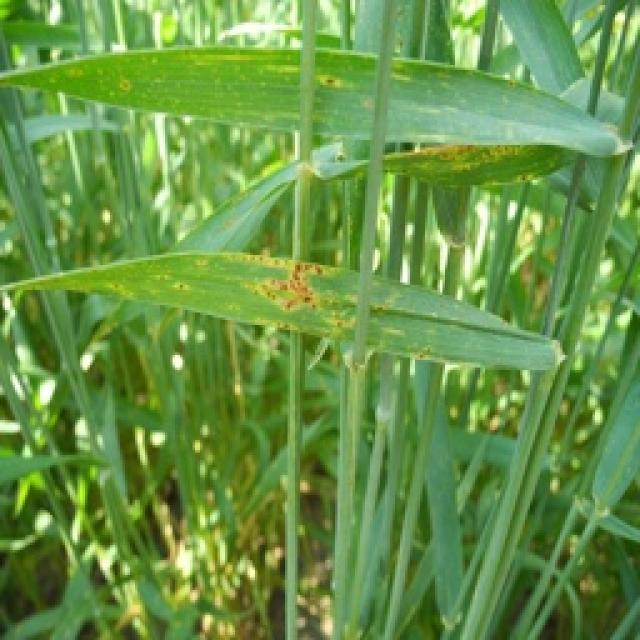Brown Rust: (253, 258, 325, 312)
Healthy Wheat: (0, 0, 638, 638)
